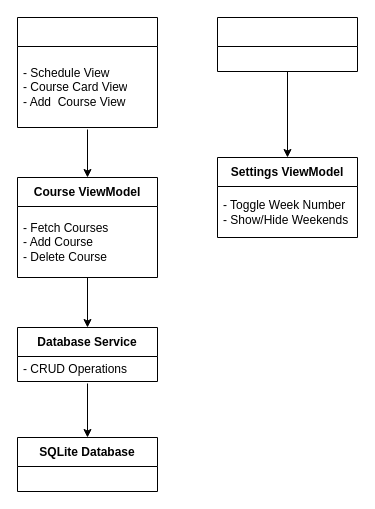
This 375x509 diagram has some shape labels left out. The box of each missing label's shape, as (x1, y1, x2, y2) in pixels:
Settings View: (216, 16, 358, 72)
User Interface: (16, 16, 158, 128)
